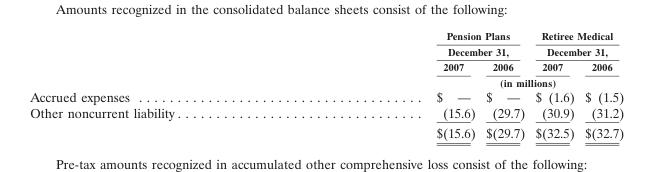table: (29, 29, 623, 140)
table column: (29, 29, 307, 140), (307, 29, 479, 140), (479, 29, 529, 140), (529, 29, 579, 140), (579, 29, 623, 140)
table column header: (29, 29, 623, 88)
table row: (29, 29, 623, 58), (29, 104, 623, 122), (29, 122, 623, 140), (29, 58, 623, 74), (29, 88, 623, 104), (29, 74, 623, 88)
table spanning cell: (307, 29, 529, 58), (307, 74, 623, 88), (529, 29, 623, 58)
